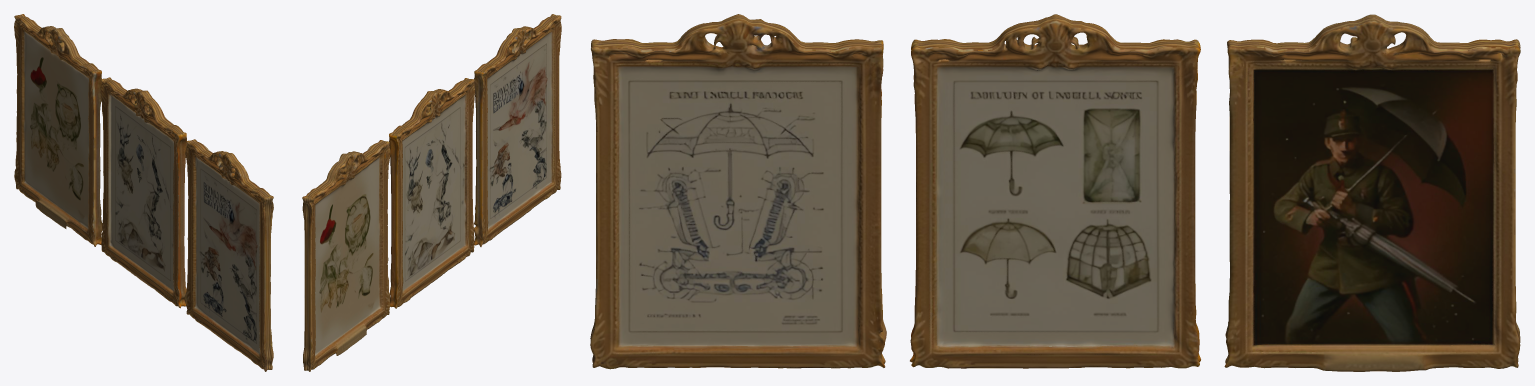
The model's file is antique+umbrella+diagrams123+3d+model.fbx.
3 views of the same model, side by side, from view 1: azimuth 30°, elevation 25°; view 2: azimuth 150°, elevation 25°; view 3: azimuth 270°, elevation 25° (orthographic). The views are drawn at different scales.
Parts seen in each view (by area): view 1: tripo_node_0edf8b38; view 2: tripo_node_0edf8b38; view 3: tripo_node_0edf8b38.
Part boxes in pixels (x1=…): tripo_node_0edf8b38: x1=14, y1=14, x2=273, y2=371; tripo_node_0edf8b38: x1=302, y1=14, x2=561, y2=371; tripo_node_0edf8b38: x1=590, y1=14, x2=1520, y2=371.
Size of the model in its own units: 0.0316 by 0.4165 by 0.9983.
Materials: 1 (1 with a texture image).
